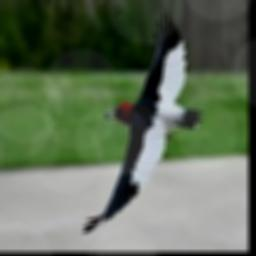Woodpecker: (84, 12, 204, 234)
